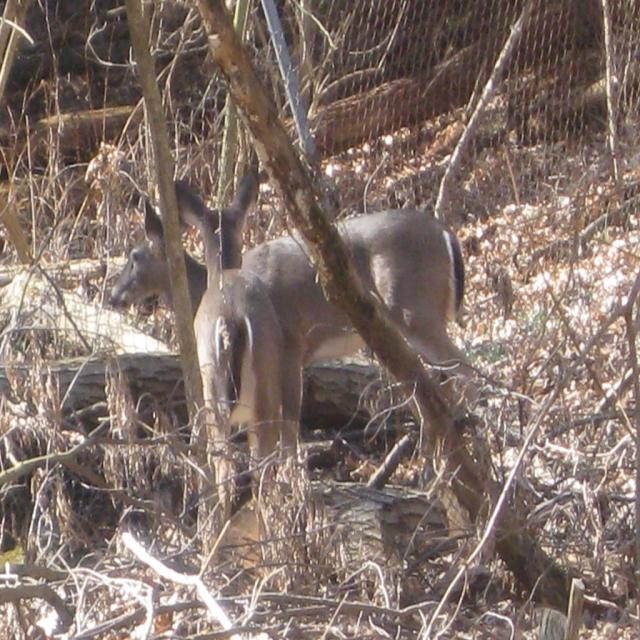Deer: (108, 208, 478, 464), (170, 167, 284, 533)
